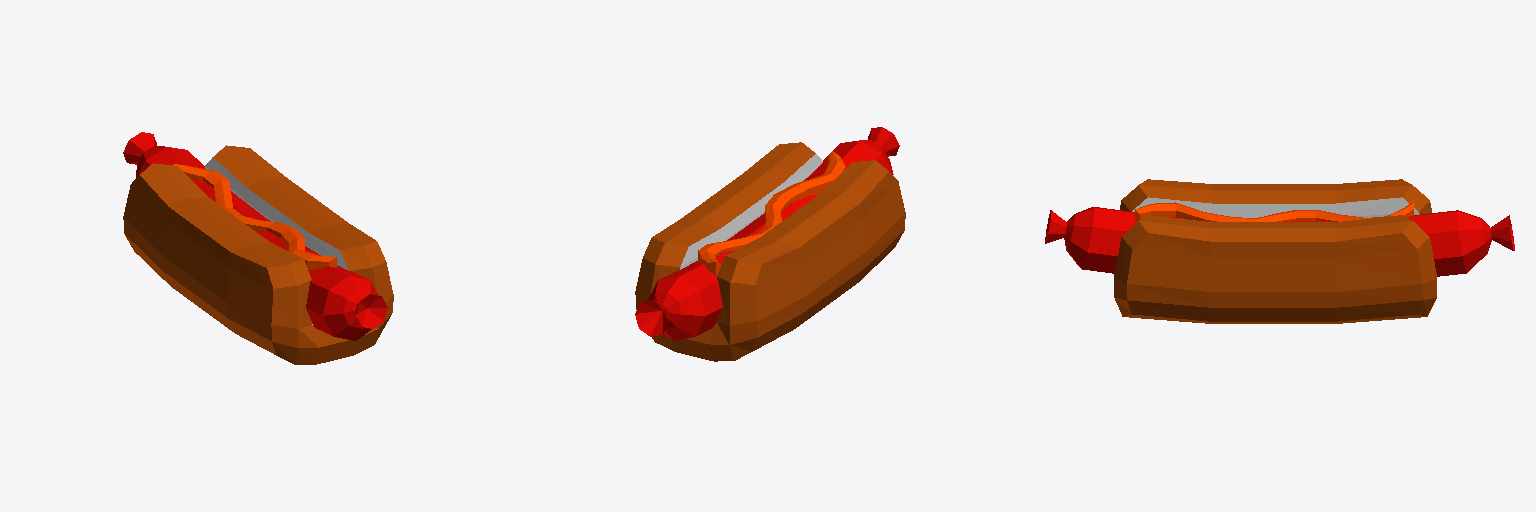
Rendered from Hot_dog_01.obj.
3 views of the same model, side by side, from view 1: azimuth 30°, elevation 25°; view 2: azimuth 150°, elevation 25°; view 3: azimuth 270°, elevation 25° (orthographic).
Parts seen in each view (by area): view 1: Cube.025_Cube.026; view 2: Cube.025_Cube.026; view 3: Cube.025_Cube.026.
Boxes of the visible parts, x1=… form: Cube.025_Cube.026: x1=123, y1=132, x2=393, y2=364; Cube.025_Cube.026: x1=635, y1=127, x2=905, y2=361; Cube.025_Cube.026: x1=1045, y1=179, x2=1514, y2=323.
Bounding box in the file's own units: 12.08 × 9.37 × 37.64.